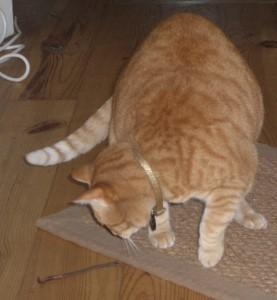earthworms: (29, 260, 124, 287)
